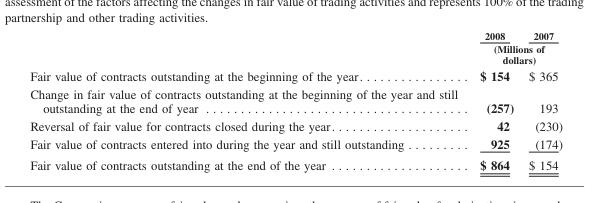table: (29, 29, 561, 172)
table column: (29, 29, 468, 172), (468, 29, 520, 172), (520, 29, 561, 172)
table column header: (29, 29, 561, 66)
table row: (29, 84, 561, 116), (29, 41, 561, 66), (29, 134, 561, 153), (29, 153, 561, 172), (29, 66, 561, 84), (29, 116, 561, 134), (29, 29, 561, 41)
table spanning cell: (468, 41, 561, 66)
